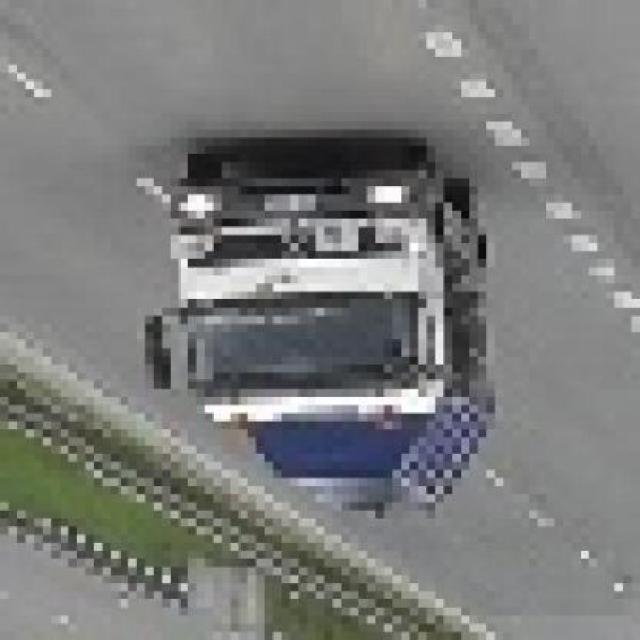truck: (137, 155, 496, 536)
